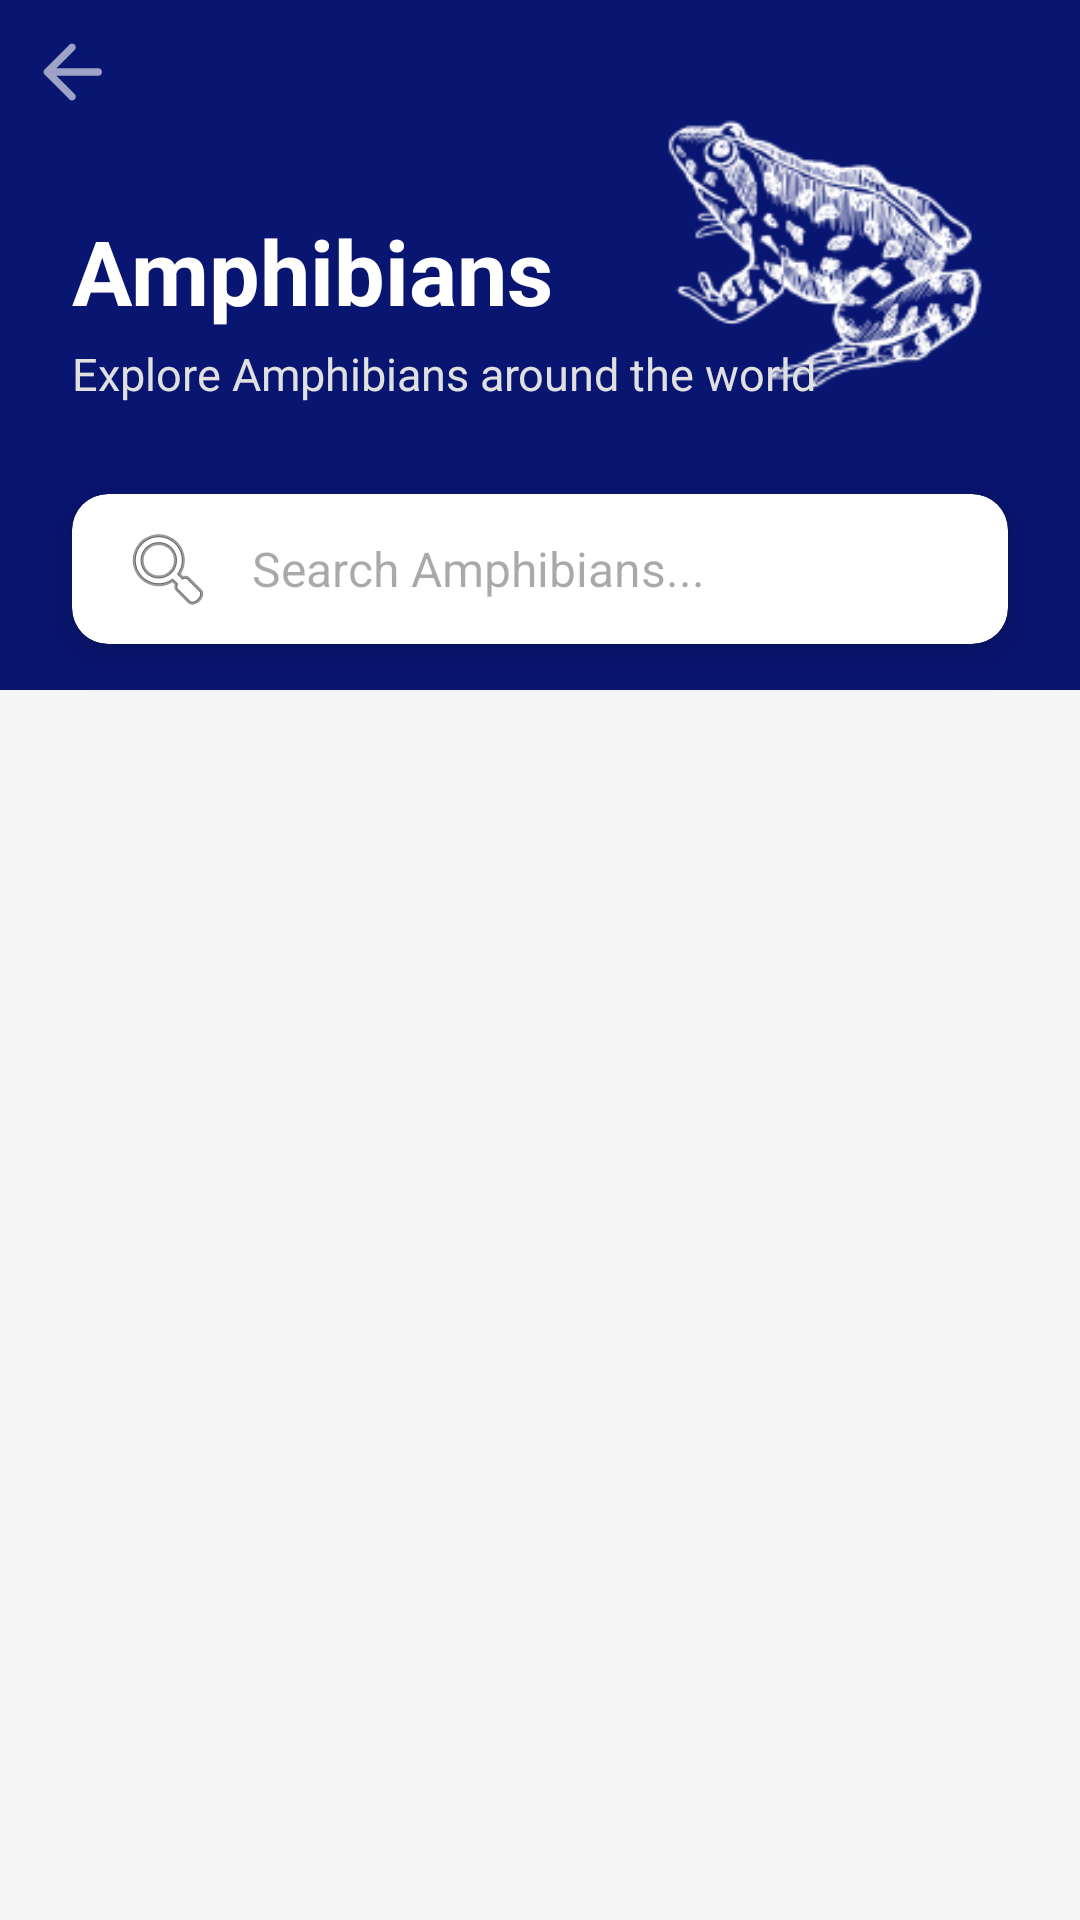

Icon click points for this 1080 x 1920 phone screenshot, format (x=x, y=y):
Back: (x=72, y=72)
